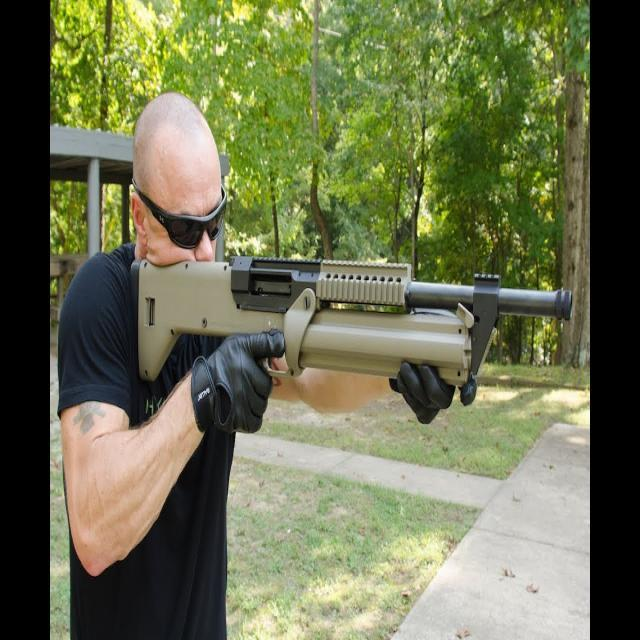shotgun: (123, 245, 576, 403)
